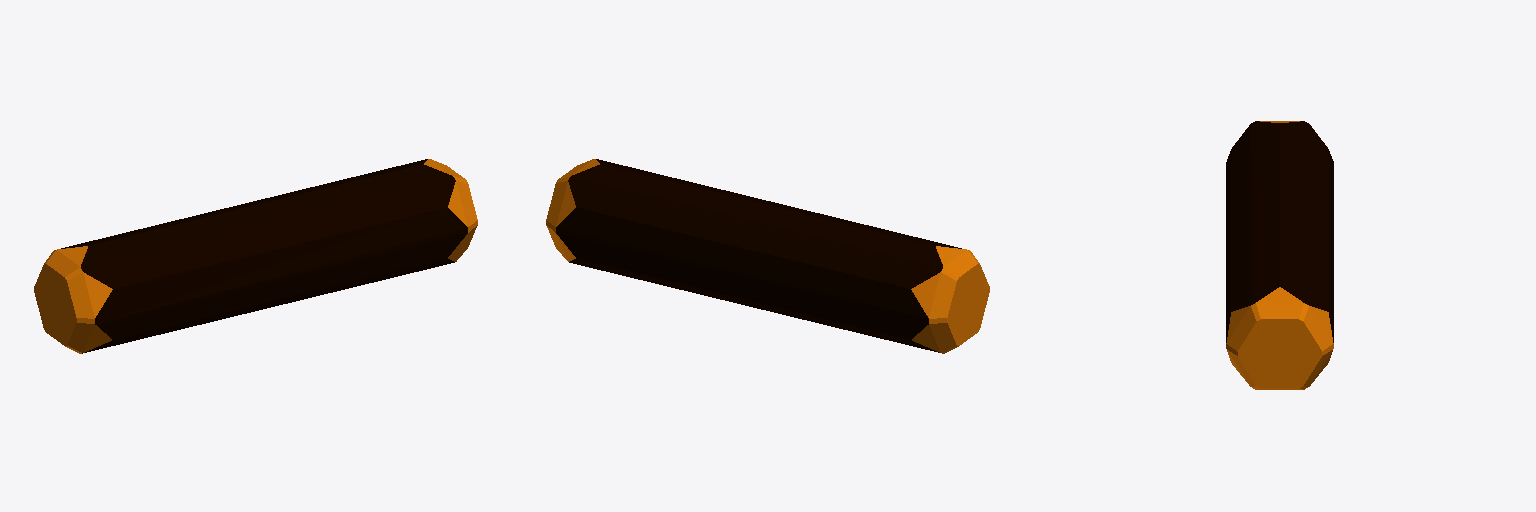
The model's file is log.obj.
3 views of the same model, side by side, from view 1: azimuth 30°, elevation 25°; view 2: azimuth 150°, elevation 25°; view 3: azimuth 270°, elevation 25° (orthographic).
Visible parts, largest first — view 1: Cylinder; view 2: Cylinder; view 3: Cylinder.
Part boxes in pixels (left/top/right/bottom): Cylinder: left=34, top=159, right=477, bottom=353; Cylinder: left=546, top=159, right=989, bottom=353; Cylinder: left=1226, top=121, right=1333, bottom=389.
Size of the model in its own units: 8.24 by 2 by 1.91.